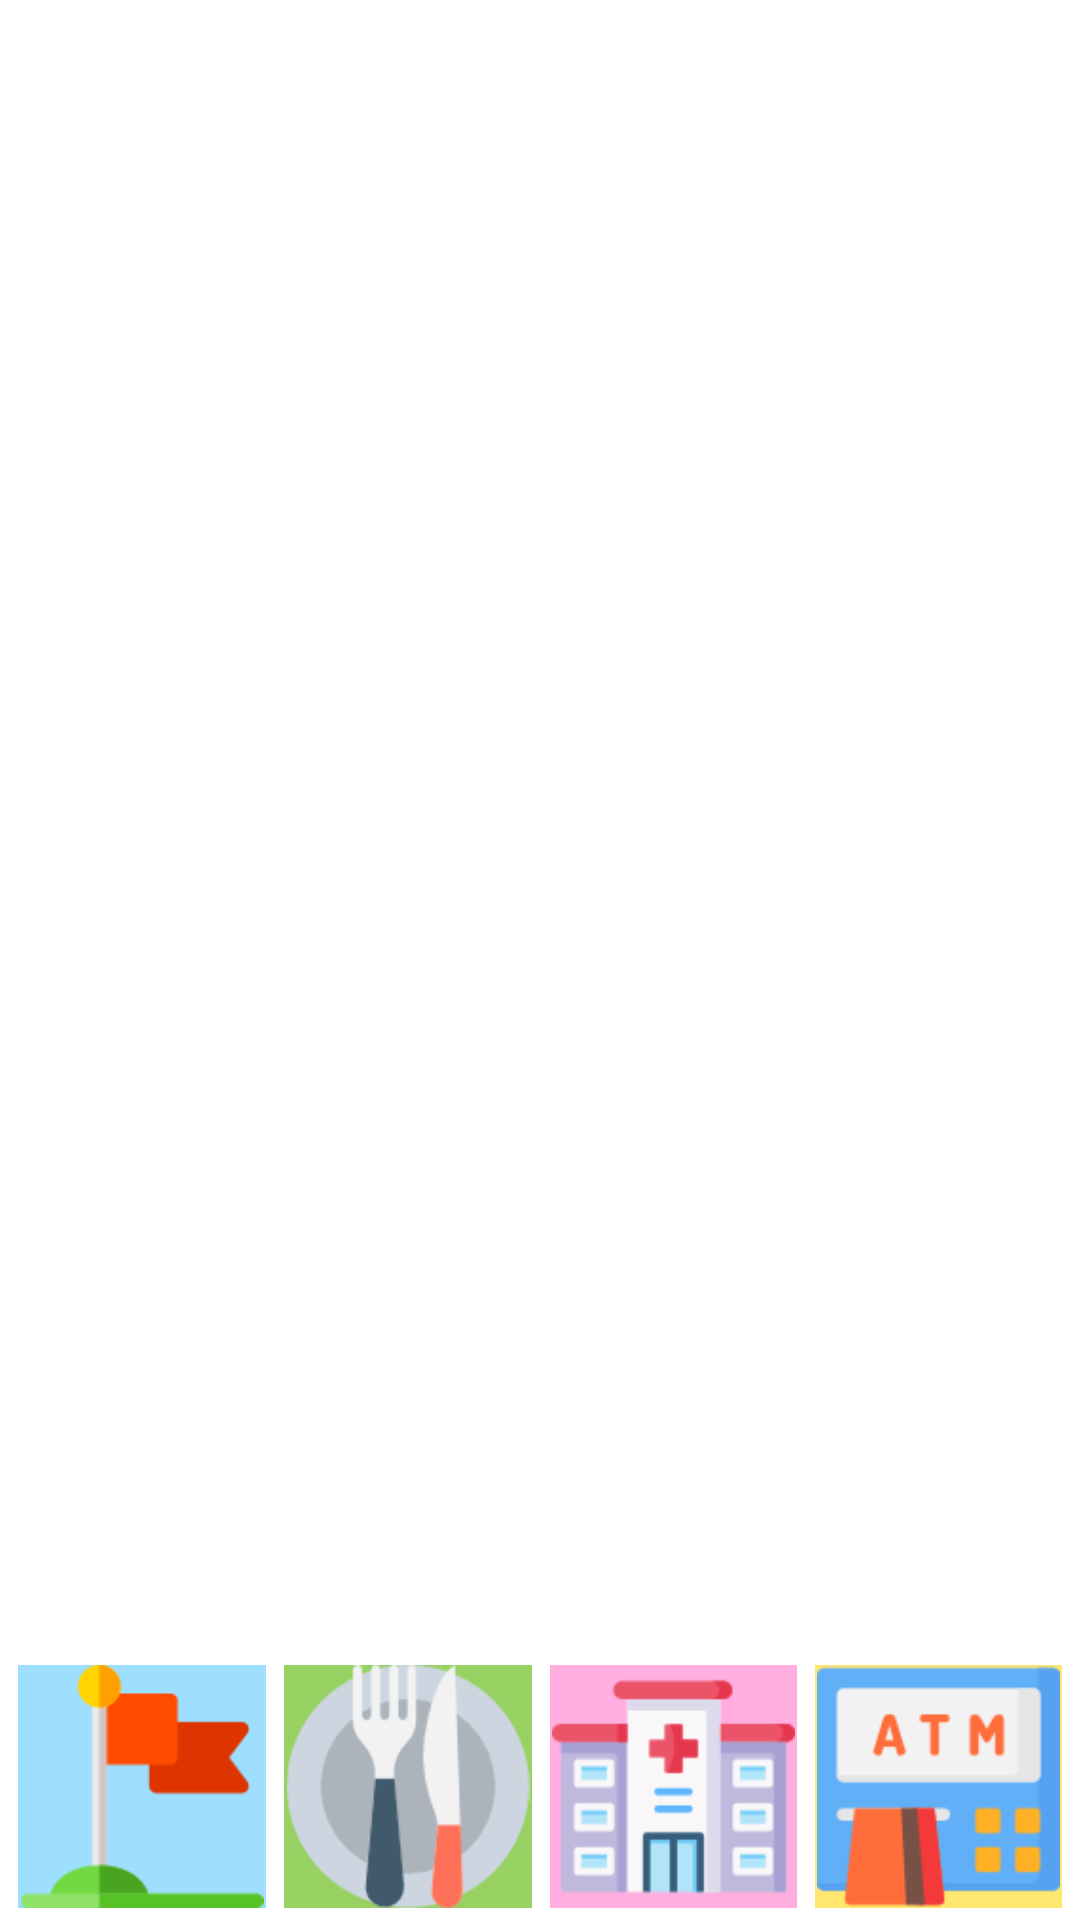

Icon bounding boxes for this 1080×1920 phone screenshot, format (x1, y1, x2, y2):
food: (284, 1665, 532, 1908)
hospital: (550, 1665, 797, 1908)
landmark: (18, 1665, 266, 1908)
